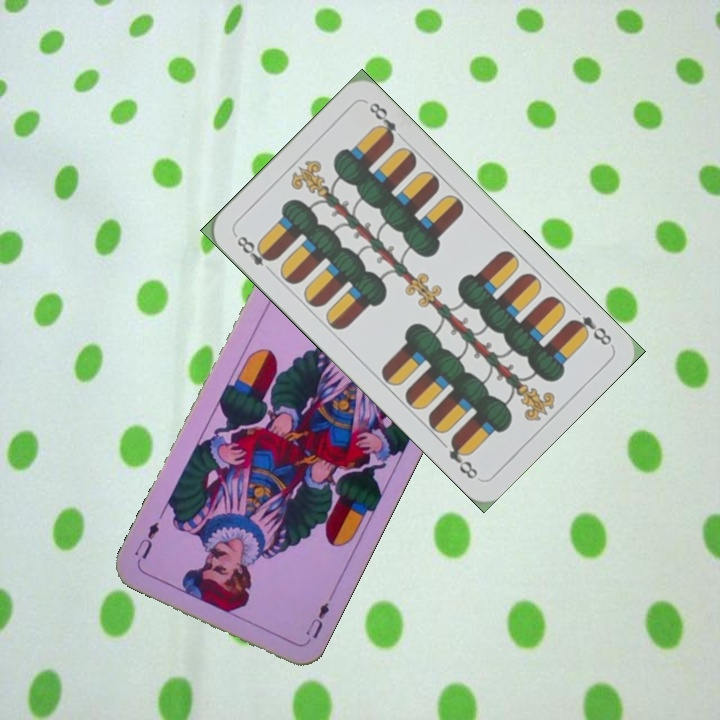E8: (231, 230, 277, 277), (565, 311, 615, 348)
EU: (301, 592, 335, 647)
